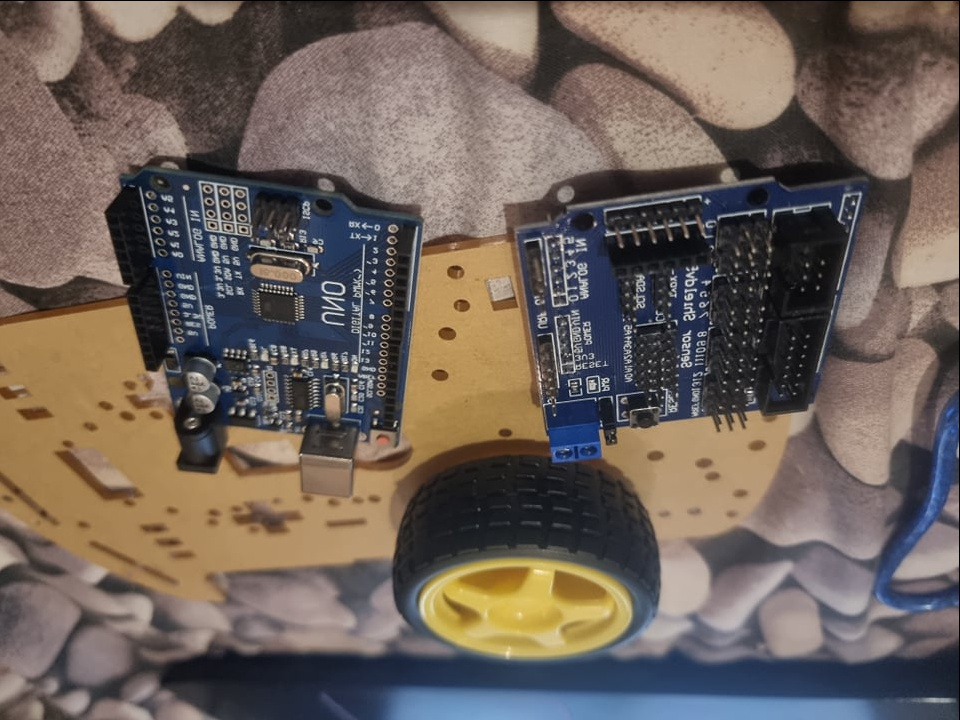5V EXPANSION: (515, 174, 868, 465)
UNO R3: (103, 164, 424, 496)
